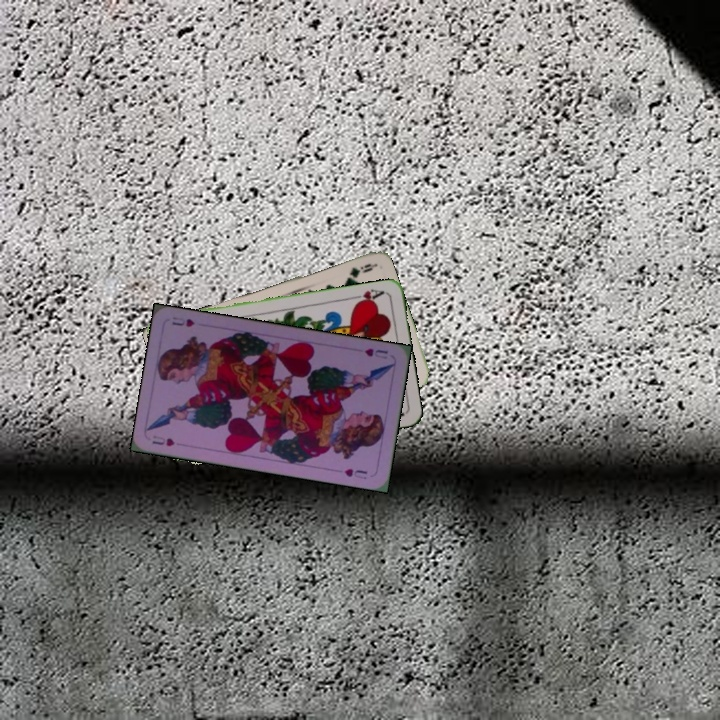G9: (345, 259, 377, 278)
HA: (347, 285, 387, 307)
HU: (148, 431, 177, 449), (360, 344, 390, 361)
